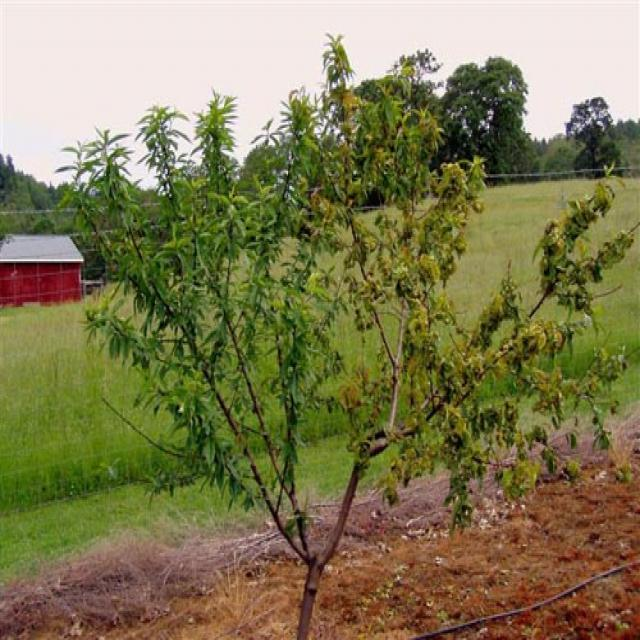peach: (57, 43, 486, 497)
